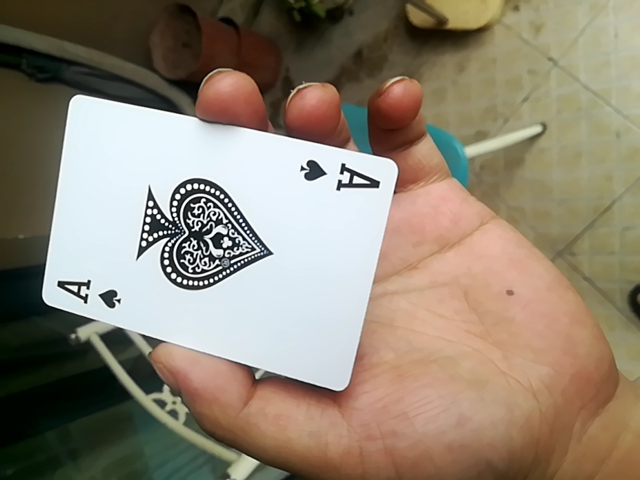ht a: (42, 93, 394, 391)
